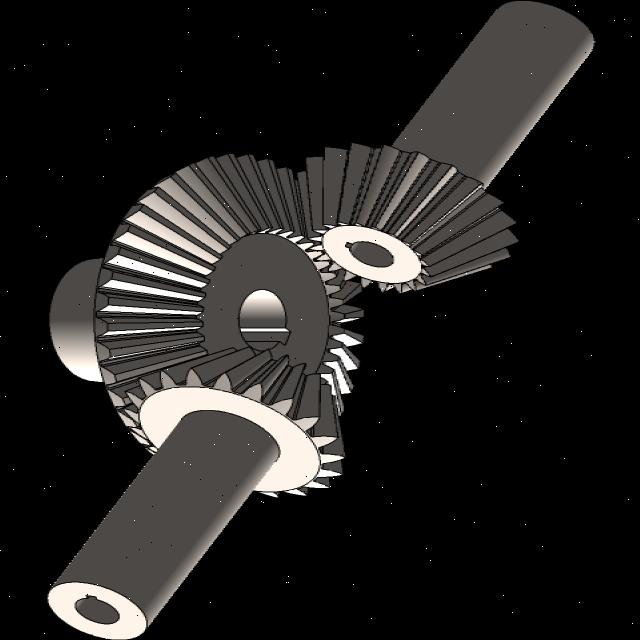Gear: (86, 150, 366, 463), (290, 140, 524, 298), (123, 343, 350, 504)
